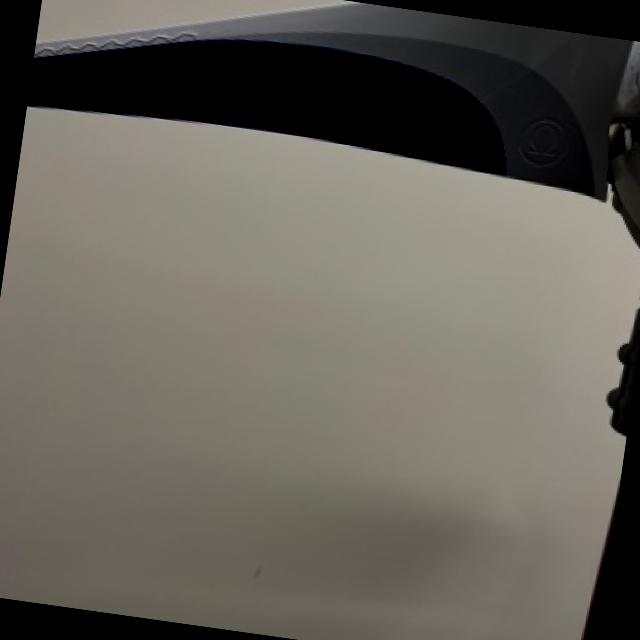healthy: (0, 104, 640, 640)
